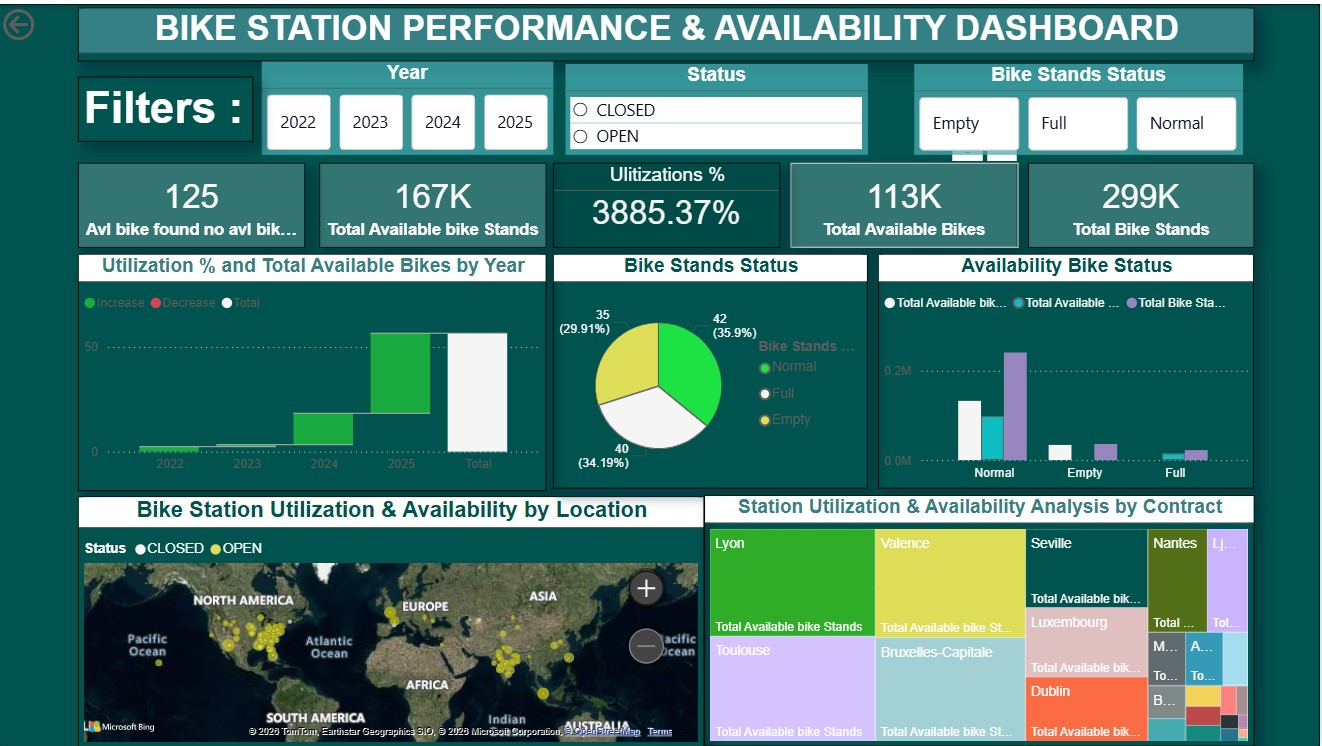

The page's visual inventory and layout, read from the dashboard file:
{"tool":"powerbi","page":{"name":"Fuiel Dashboard","canvas":[1280,720],"ordinal":0},"visuals":[{"type":"card","fields":{"Values":["Fact Feuil1.Total Available bike Stands"]},"box":[311.1,153.6,220.3,82.3],"z":0},{"type":"card","fields":{"Values":["Fact Feuil1.Total Available Bikes"]},"box":[767.5,153.7,220.3,82.3],"z":1000},{"type":"card","fields":{"Values":["Fact Feuil1.Total Bike Stands"]},"box":[997.4,153.7,219.1,82.3],"z":2000},{"type":"kpi","title":"Ulitizations %","fields":{"TrendLine":["Fact Feuil1.status"],"Indicator":["Fact Feuil1.Utilization %"]},"box":[537.5,153.7,220.3,82.3],"z":3000},{"type":"card","fields":{"Values":["Fact Feuil1.Avl bike found no avl bike stands"]},"box":[77.5,153.6,220.3,82.3],"z":4000},{"type":"textbox","title":"BIKE STATION PERFORMANCE & AVAILABILITY DASHBOARD","box":[77.5,3.6,1139.1,52.1],"z":5000},{"type":"waterfallChart","fields":{"Category":["Dim DMY.Last Update - DMY.Variation.Date Hierarchy.Year"],"Y":["Fact Feuil1.Utilization %"]},"box":[77.5,242.1,453.9,230],"z":6000},{"type":"map","title":"Bike Station Utilization & Availability by Location","fields":{"Size":["Fact Feuil1.Total Available Bikes"],"Category":["Dim Name.position - Longtutide","Dim Name.position - Latitude"],"Series":["Fact Feuil1.status"]},"box":[77.5,476.9,606.5,243.3],"z":7000},{"type":"pieChart","title":" Bike Stands Status","fields":{"Category":["Fact Feuil1.Bike Stands Status"],"Y":["Count(Fact Feuil1.Bike Stands)"]},"box":[537.5,242.1,305,227.6],"z":8000},{"type":"clusteredColumnChart","title":"Availability Bike Status","fields":{"Category":["Fact Feuil1.Bike Stands Status"],"Y":["Fact Feuil1.Total Available bike Stands","Fact Feuil1.Total Available Bikes","Fact Feuil1.Total Bike Stands"]},"box":[852.2,241.9,364.4,227.6],"z":9000},{"type":"actionButton","box":[0,0,100,40],"z":10000},{"type":"treemap","title":"Station Utilization & Availability Analysis by Contract","fields":{"Group":["Dim Name.Contract Name"],"Values":["Fact Feuil1.Avl bike found no avl bike stands","Fact Feuil1.Utilization %","Fact Feuil1.Total Available bike Stands"]},"box":[683.9,475.7,532.6,243.3],"z":11000},{"type":"advancedSlicerVisual","fields":{"Values":["Dim DMY.Last Update - DMY.Variation.Date Hierarchy.Year"]},"box":[255.4,55.7,282,90.8],"z":12000},{"type":"listSlicer","title":"Status ","fields":{"Values":["Fact Feuil1.status"]},"box":[549.6,58.1,292.9,88.4],"z":13000},{"type":"advancedSlicerVisual","fields":{"Values":["Fact Feuil1.Bike Stands Status"]},"box":[887.3,58.1,318.4,88.4],"z":14000},{"type":"textbox","box":[77.5,70.2,169.5,62.9],"z":15000}]}

Visuals, with their boxes in screenshot pixels (x1, y1, x2, y2), scaled from the page's 1280x720 canvas onto the 1322x746 screenshot:
card - Fact Feuil1.Total Available bike Stands: box(321, 159, 549, 244)
card - Fact Feuil1.Total Available Bikes: box(793, 159, 1020, 245)
card - Fact Feuil1.Total Bike Stands: box(1030, 159, 1256, 245)
"Ulitizations %" kpi: box(555, 159, 783, 245)
card - Fact Feuil1.Avl bike found no avl bike stands: box(80, 159, 308, 244)
"BIKE STATION PERFORMANCE & AVAILABILITY DASHBOARD" textbox: box(80, 4, 1257, 58)
waterfallChart - Dim DMY.Last Update - DMY.Variation.Date Hierarchy.Year x Fact Feuil1.Utilization %: box(80, 251, 549, 489)
"Bike Station Utilization & Availability by Location" map: box(80, 494, 706, 745)
" Bike Stands Status" pieChart: box(555, 251, 870, 487)
"Availability Bike Status" clusteredColumnChart: box(880, 251, 1257, 486)
actionButton: box(0, 0, 103, 41)
"Station Utilization & Availability Analysis by Contract" treemap: box(706, 493, 1256, 745)
advancedSlicerVisual - Dim DMY.Last Update - DMY.Variation.Date Hierarchy.Year: box(264, 58, 555, 152)
"Status " listSlicer: box(568, 60, 870, 152)
advancedSlicerVisual - Fact Feuil1.Bike Stands Status: box(916, 60, 1245, 152)
textbox: box(80, 73, 255, 138)
